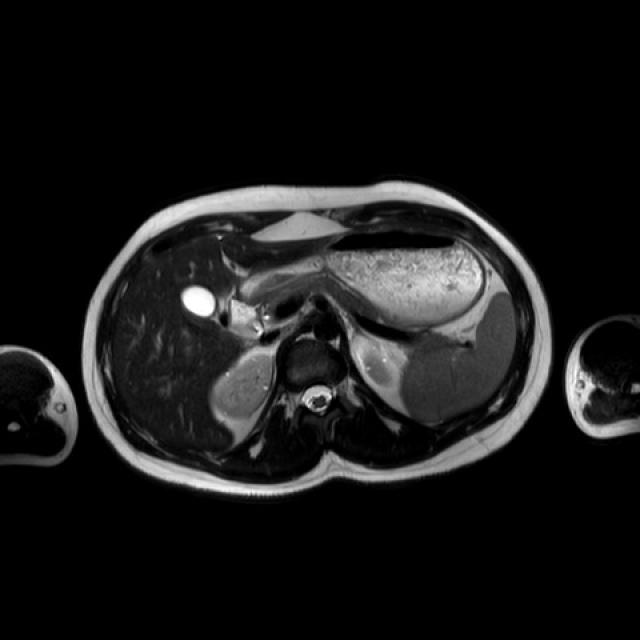sag: (214, 357, 274, 418)
sol: (366, 340, 397, 386)
